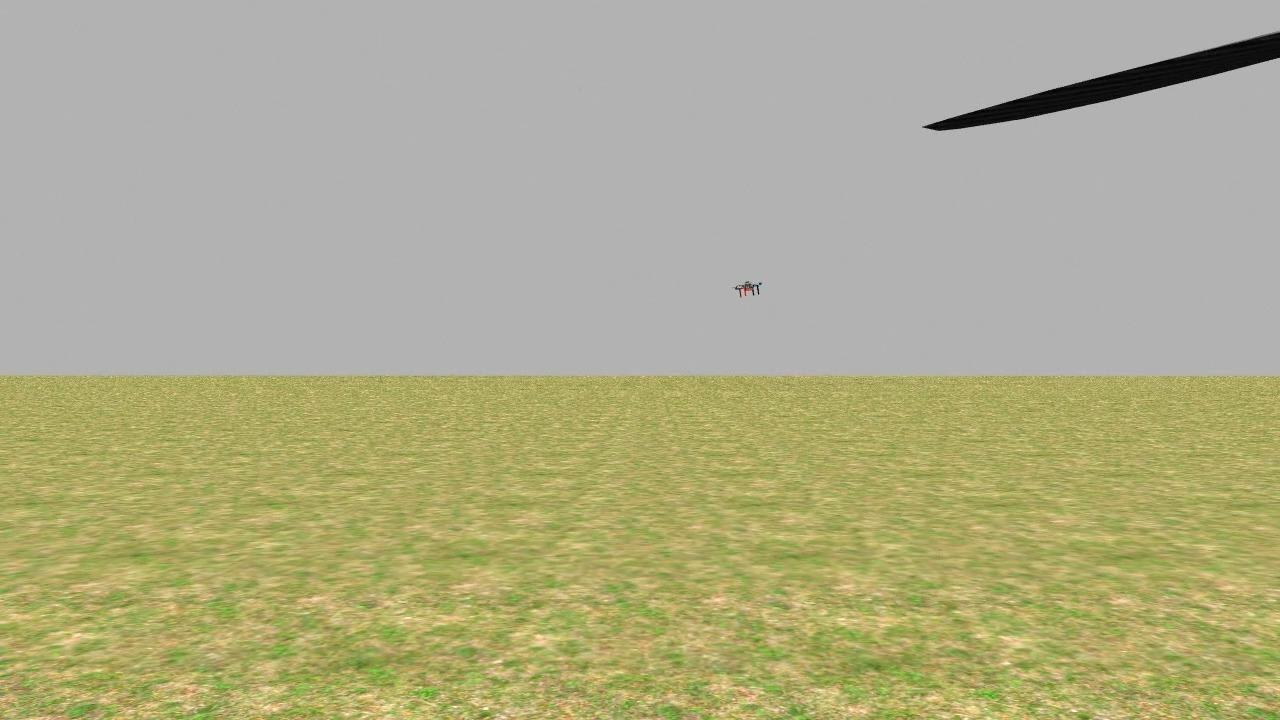UAV: (732, 272, 776, 310)
